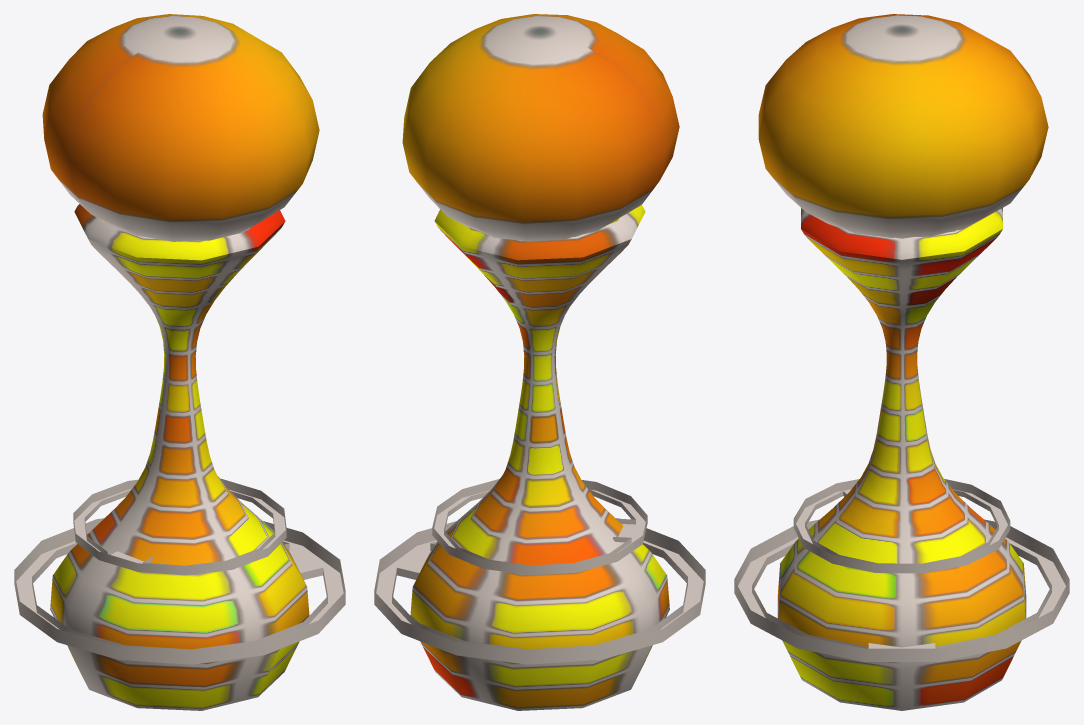
Rendered from Tall_B_3.fbx.
3 renders of one model, left to right at view 1: azimuth 30°, elevation 25°; view 2: azimuth 150°, elevation 25°; view 3: azimuth 270°, elevation 25°, orthographic.
Parts seen in each view (by area): view 1: Tall_B_3; view 2: Tall_B_3; view 3: Tall_B_3.
Part boxes in pixels (x1,y1,x2,y2): Tall_B_3: (14,14,345,710); Tall_B_3: (374,14,705,710); Tall_B_3: (734,14,1069,710).
Size of the model in its own units: 4162 by 8943 by 4269.
